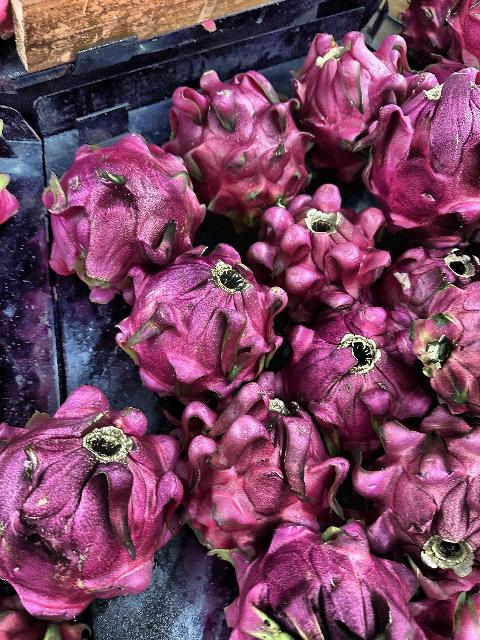buah-naga-matang: (0, 384, 182, 618), (170, 372, 344, 550), (212, 512, 428, 640), (43, 132, 215, 286), (344, 394, 480, 588), (283, 288, 428, 452), (118, 252, 274, 394), (171, 66, 311, 218), (364, 59, 480, 232), (249, 192, 383, 316), (294, 15, 379, 189)
